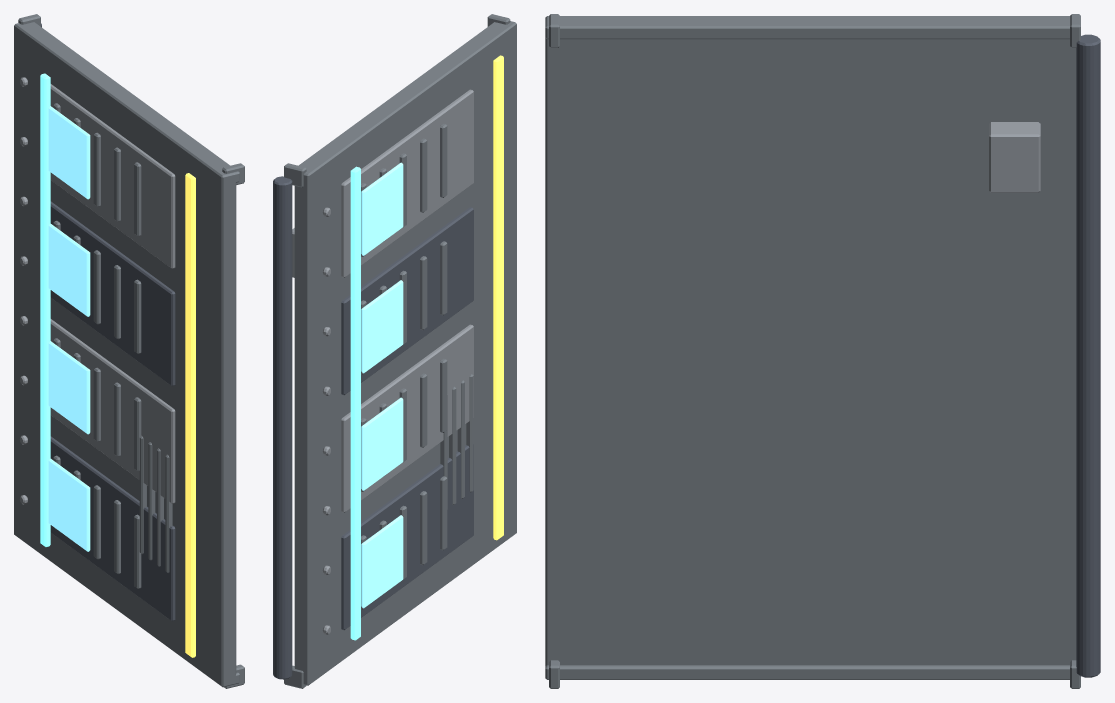
File: wall_panel_r.glb
3 views of the same model, side by side, from view 1: azimuth 30°, elevation 25°; view 2: azimuth 150°, elevation 25°; view 3: azimuth 270°, elevation 25° (orthographic). The views are drawn at different scales.
Parts seen in each view (by area): view 1: WallPanel_R; view 2: WallPanel_R; view 3: WallPanel_R.
Boxes of the visible parts, left/top/right/bottom form: WallPanel_R: left=14, top=14, right=244, bottom=688; WallPanel_R: left=273, top=14, right=516, bottom=688; WallPanel_R: left=545, top=14, right=1100, bottom=688.
Bounding box in the file's own units: 0.375 × 3.98 × 3.02.
